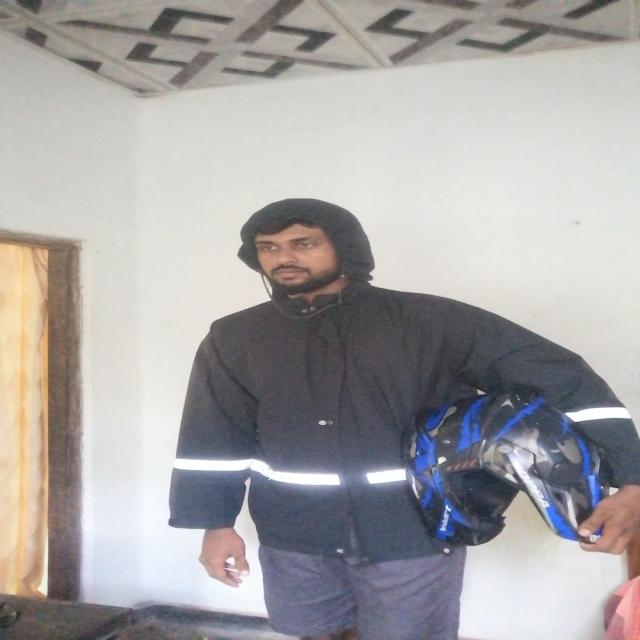Jacket_Wearer: (169, 288, 637, 550)
Person: (140, 194, 640, 633)
